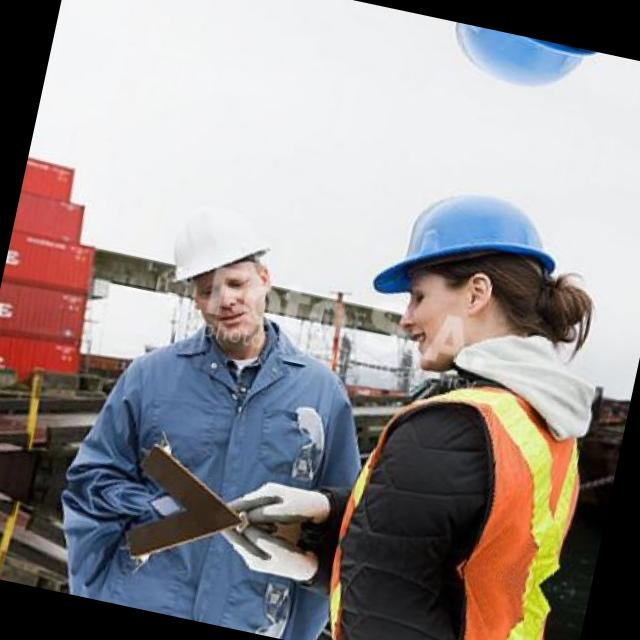helmet: (348, 162, 598, 391), (140, 184, 302, 350), (406, 14, 630, 119)
